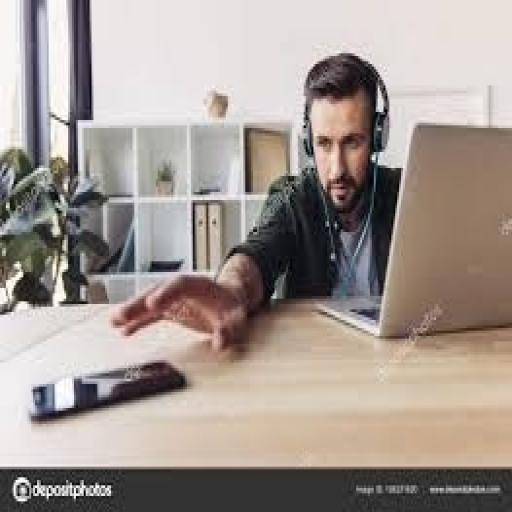using_laptop: (312, 118, 510, 342)
